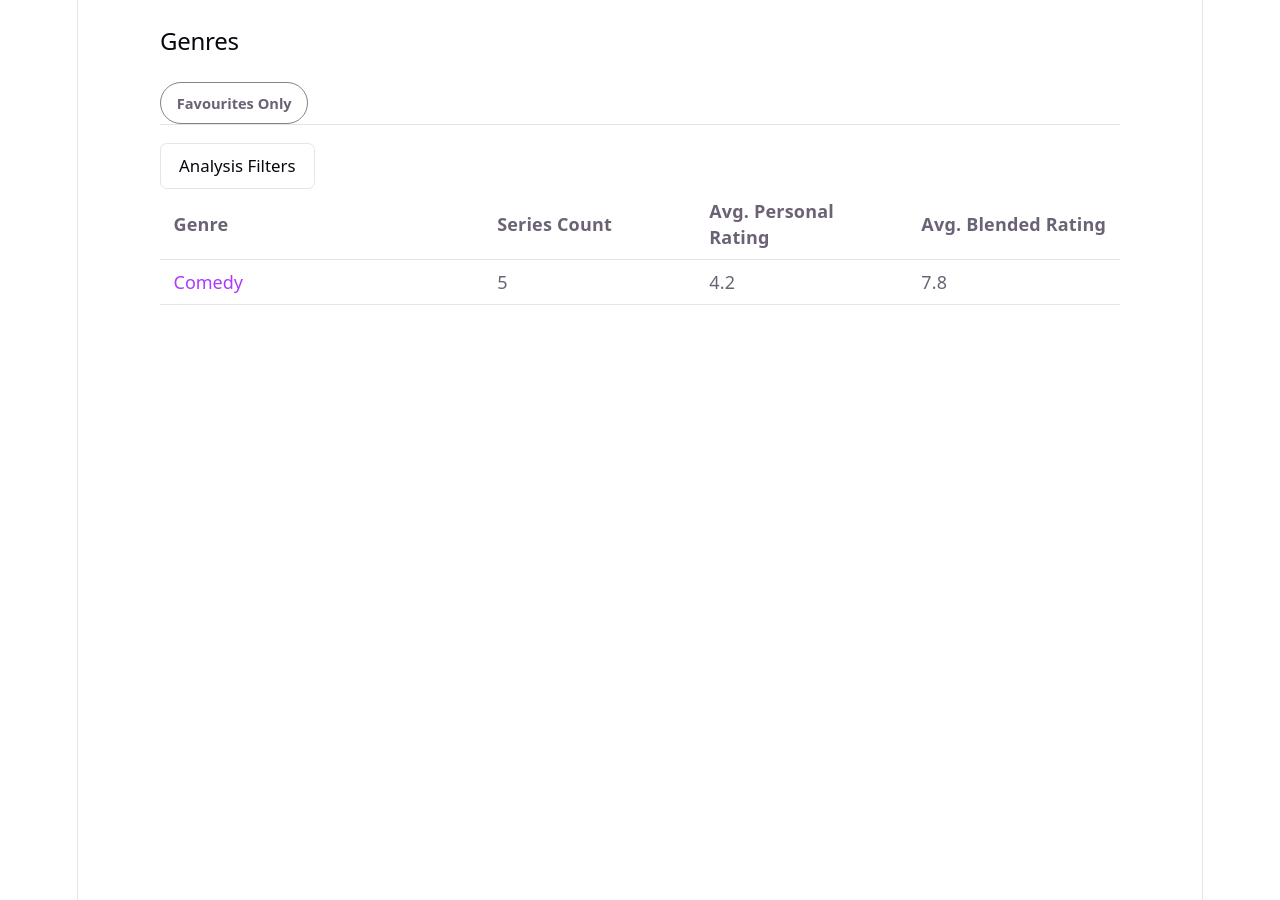
Scenario: FRONTEND-137-AC-04: GenreStatsView wires the detail modal › opens GenreDetailModal from a genre name click
The width and height of the screenshot is (1280, 900).
Click the button "Comedy": {"x": 208, "y": 282} [174,269,243,295]
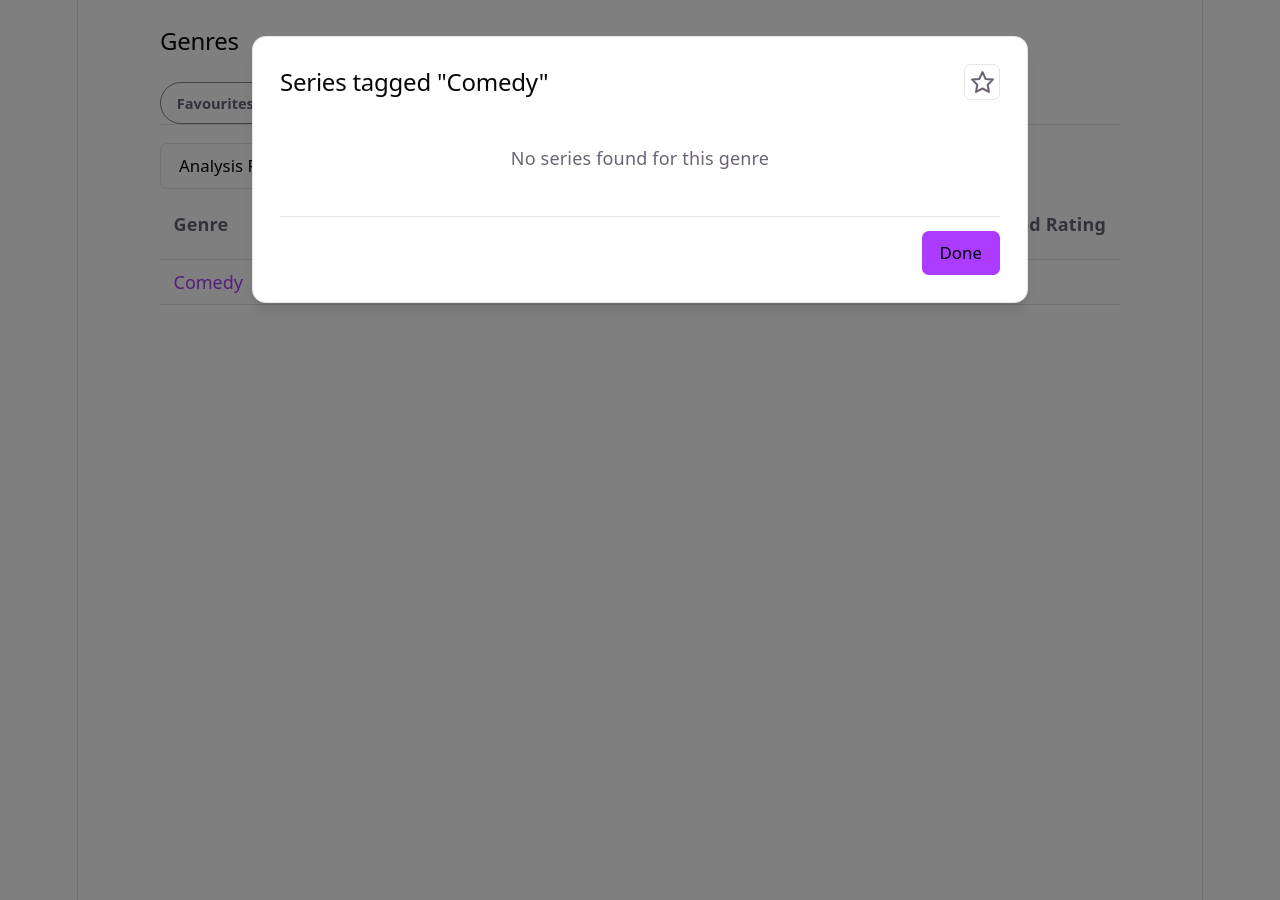
Now the dialog "Series tagged \"Comedy\" No series found for this genre Done" is shown, box [252,36,1028,303]
